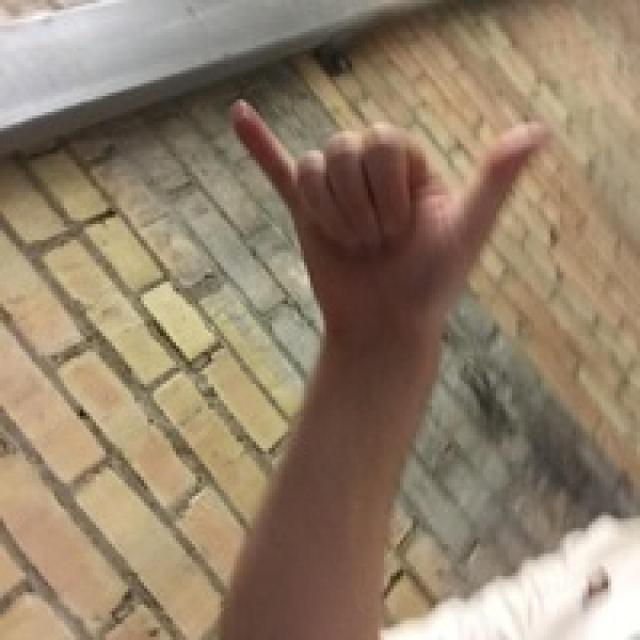Y: (197, 35, 590, 383)
